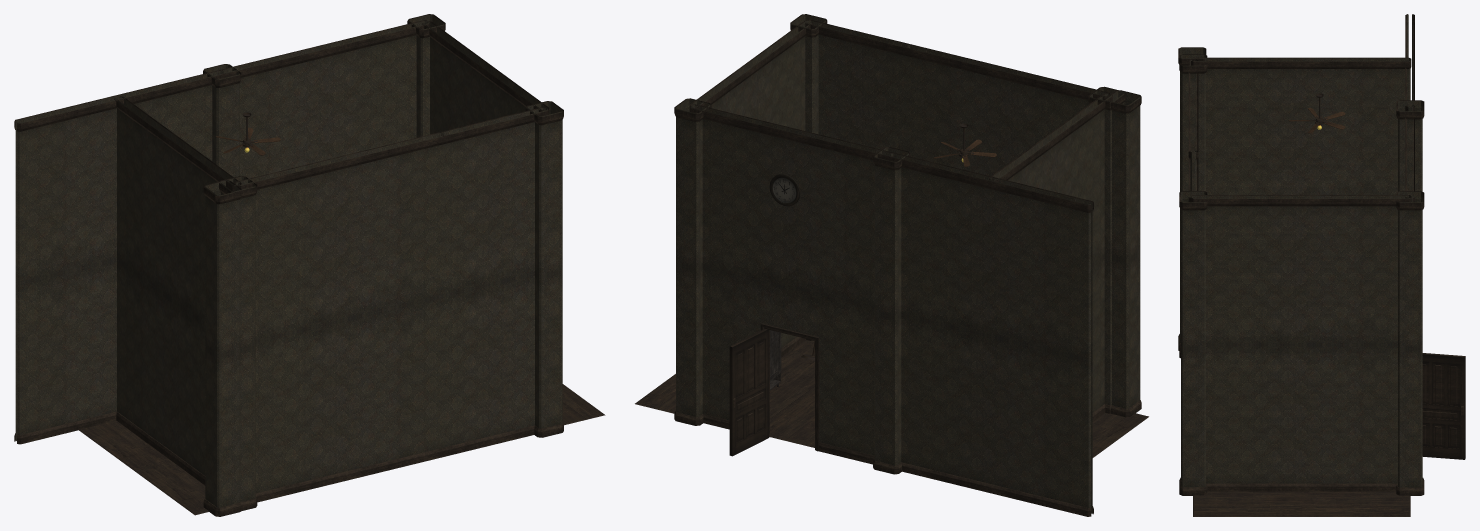
File: forHec.fbx
The picture shows the model from 3 angles, left to right: view 1: azimuth 30°, elevation 25°; view 2: azimuth 150°, elevation 25°; view 3: azimuth 270°, elevation 25°; orthographic projection. The views are drawn at different scales.
Parts seen in each view (by area): view 1: wall_2_1.119, wall_2_1.118, wall_2_1.126, wall_2_1.127, wall_2_1.128, wall_2_1.123, wall_1_1_half.052, wall_1_1_half.051, wall_2_1.122, wall_2_1.120, pillar_2.120, pillar_2.121 (+8 smaller); view 2: wall_2_1.126, wall_2_1.128, wall_2_1.127, doorway_2.008, wall_2_1.119, wall_1_1_half.052, wall_2_1.123, wall_2_1.120, pillar_2.120, floor_ceiling_1.002, pillar_2.124, door4.001 (+10 smaller); view 3: wall_2_1.120, wall_2_1.121, wall_2_1.123, floor_ceiling_1.002, door4.001, pillar_2.123, pillar_2.099, pillar_2.098, pillar_2.122, pillar_2.118, pillar_2.124, wall_2_1.119 (+3 smaller).
Part boxes in pixels (box(x1,y1,x2,y2)): wall_2_1.119: box(234, 132, 445, 341); wall_2_1.118: box(255, 295, 445, 502); wall_2_1.126: box(14, 70, 225, 283); wall_2_1.127: box(218, 20, 430, 178); wall_2_1.128: box(14, 260, 116, 444); wall_2_1.123: box(114, 96, 241, 323); wall_1_1_half.052: box(439, 107, 548, 295); wall_1_1_half.051: box(444, 273, 534, 456); wall_2_1.122: box(116, 260, 205, 485); wall_2_1.120: box(422, 21, 549, 134); pillar_2.120: box(203, 180, 241, 355); pillar_2.121: box(203, 347, 240, 516); wall_2_1.126: box(888, 153, 1093, 360); wall_2_1.128: box(901, 315, 1093, 516); wall_2_1.127: box(689, 104, 895, 307); doorway_2.008: box(702, 266, 874, 464); wall_2_1.119: box(905, 44, 1110, 176); wall_1_1_half.052: box(805, 20, 911, 150); wall_2_1.123: box(989, 93, 1112, 264); wall_2_1.120: box(689, 20, 813, 130); pillar_2.120: box(1104, 90, 1141, 261); floor_ceiling_1.002: box(635, 340, 814, 447); pillar_2.124: box(873, 147, 910, 317); door4.001: box(729, 329, 769, 456); wall_2_1.120: box(1191, 195, 1411, 344); wall_2_1.121: box(1206, 345, 1397, 491); wall_2_1.123: box(1191, 57, 1411, 194); floor_ceiling_1.002: box(1193, 491, 1410, 516); door4.001: box(1422, 353, 1465, 459); pillar_2.123: box(1396, 191, 1424, 348); pillar_2.099: box(1179, 191, 1207, 348); pillar_2.098: box(1179, 348, 1207, 495); pillar_2.122: box(1396, 348, 1424, 495); pillar_2.118: box(1179, 54, 1207, 191); pillar_2.124: box(1396, 100, 1424, 191); wall_2_1.119: box(1188, 59, 1198, 190).
Size of the model in its own units: 922 by 623 by 533.
